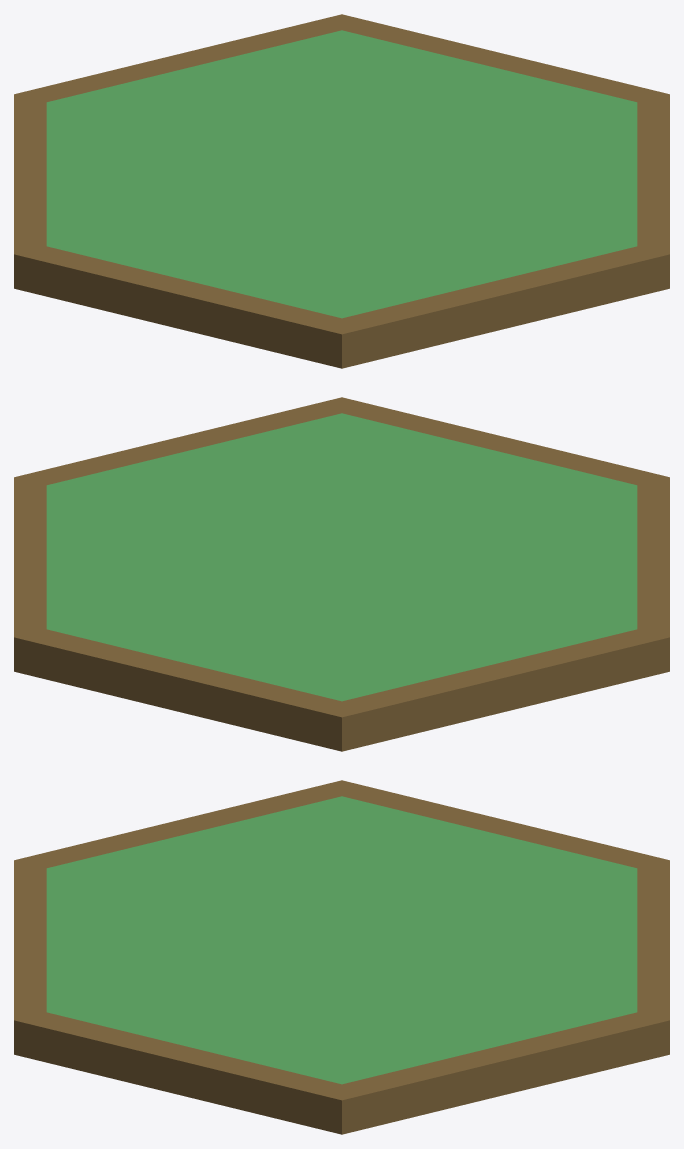
The model's file is tile-blank.fbx.
The picture shows the model from 3 angles, top to bottom: view 1: azimuth 30°, elevation 25°; view 2: azimuth 150°, elevation 25°; view 3: azimuth 270°, elevation 25°; orthographic projection.
Parts seen in each view (by area): view 1: pCylinder1; view 2: pCylinder1; view 3: pCylinder1.
Part boxes in pixels (x1,y1,x2,y2): pCylinder1: (14,14,669,368); pCylinder1: (14,397,669,751); pCylinder1: (14,780,669,1134).
Bounding box in the file's own units: 20000 × 1000 × 17321.
